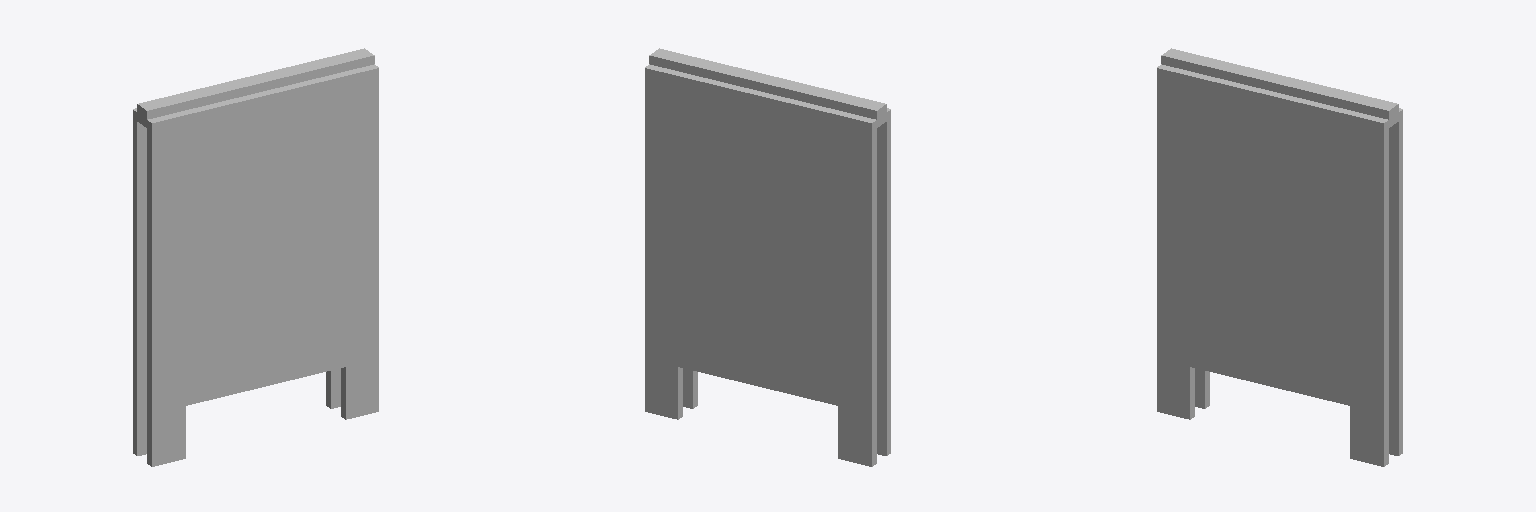
File: Dzvik&Dzukik.obj
3 views of the same model, side by side, from view 1: azimuth 30°, elevation 25°; view 2: azimuth 150°, elevation 25°; view 3: azimuth 330°, elevation 25° (orthographic).
Parts seen in each view (by area): view 1: object 1; view 2: object 1; view 3: object 1.
Part boxes in pixels (left/top/right/bottom): object 1: left=133, top=48, right=378, bottom=466; object 1: left=645, top=48, right=890, bottom=466; object 1: left=1157, top=48, right=1402, bottom=466.
Size of the model in its own units: 5.4 by 8 by 0.8.